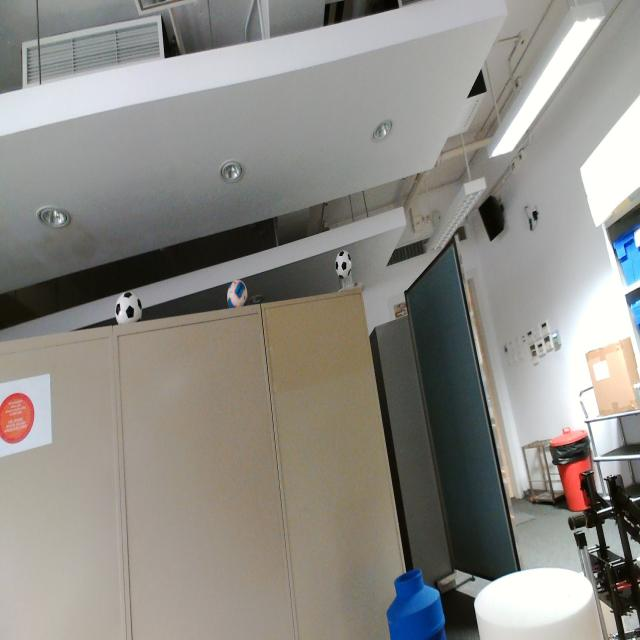ball: (115, 290, 143, 322), (228, 279, 248, 309), (335, 250, 352, 278)
